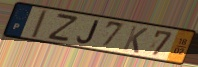7: (100, 20, 127, 51), (151, 29, 173, 57)
I: (30, 9, 49, 39)
J: (76, 19, 100, 45)
K: (121, 25, 150, 55)
Z: (45, 14, 81, 44)
